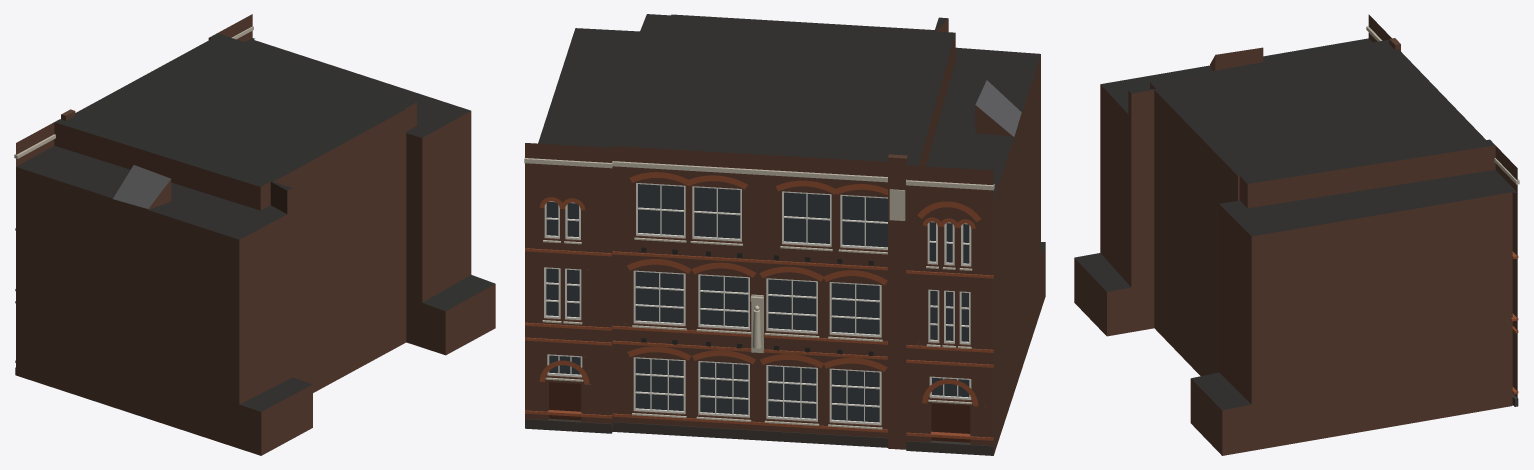
The model's file is wonderkamer-kanaalstraat.glb.
3 views of the same model, side by side, from view 1: azimuth 30°, elevation 25°; view 2: azimuth 150°, elevation 25°; view 3: azimuth 270°, elevation 25° (orthographic). The views are drawn at different scales.
Parts seen in each view (by area): view 1: wonderkamer-kanaalstraat; view 2: wonderkamer-kanaalstraat; view 3: wonderkamer-kanaalstraat.
Part boxes in pixels (x1,y1,x2,y2): wonderkamer-kanaalstraat: [14, 14, 495, 455]; wonderkamer-kanaalstraat: [524, 14, 1045, 455]; wonderkamer-kanaalstraat: [1074, 14, 1519, 455].
Bounding box in the file's own units: 27.53 × 15.26 × 25.35.
